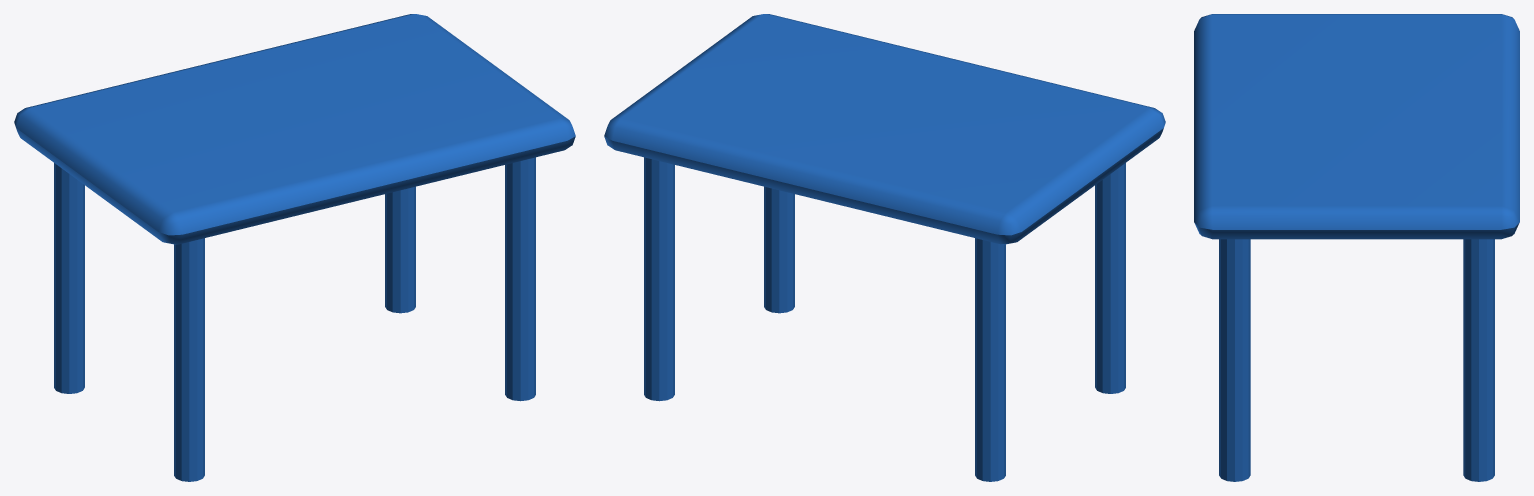
File: plastic_table_plastic_blue.glb
The picture shows the model from 3 angles, left to right: view 1: azimuth 30°, elevation 25°; view 2: azimuth 150°, elevation 25°; view 3: azimuth 270°, elevation 25°; orthographic projection.
Parts seen in each view (by area): view 1: tabletop, leg, leg.002, leg.001, leg.003; view 2: tabletop, leg.001, leg.003, leg, leg.002; view 3: tabletop, leg.002, leg.003.
Boxes of the visible parts, x1,y1,x2,y2 form: tabletop: [14, 14, 575, 244]; leg: [174, 238, 204, 481]; leg.002: [505, 157, 535, 401]; leg.001: [54, 163, 84, 393]; leg.003: [385, 186, 415, 313]; tabletop: [604, 14, 1165, 244]; leg.001: [975, 238, 1005, 481]; leg.003: [644, 157, 674, 401]; leg: [1095, 163, 1125, 393]; leg.002: [764, 186, 794, 313]; tabletop: [1194, 14, 1519, 239]; leg.002: [1219, 239, 1250, 481]; leg.003: [1463, 239, 1494, 481].
Size of the model in its own units: 1.08 by 0.69 by 0.72.
